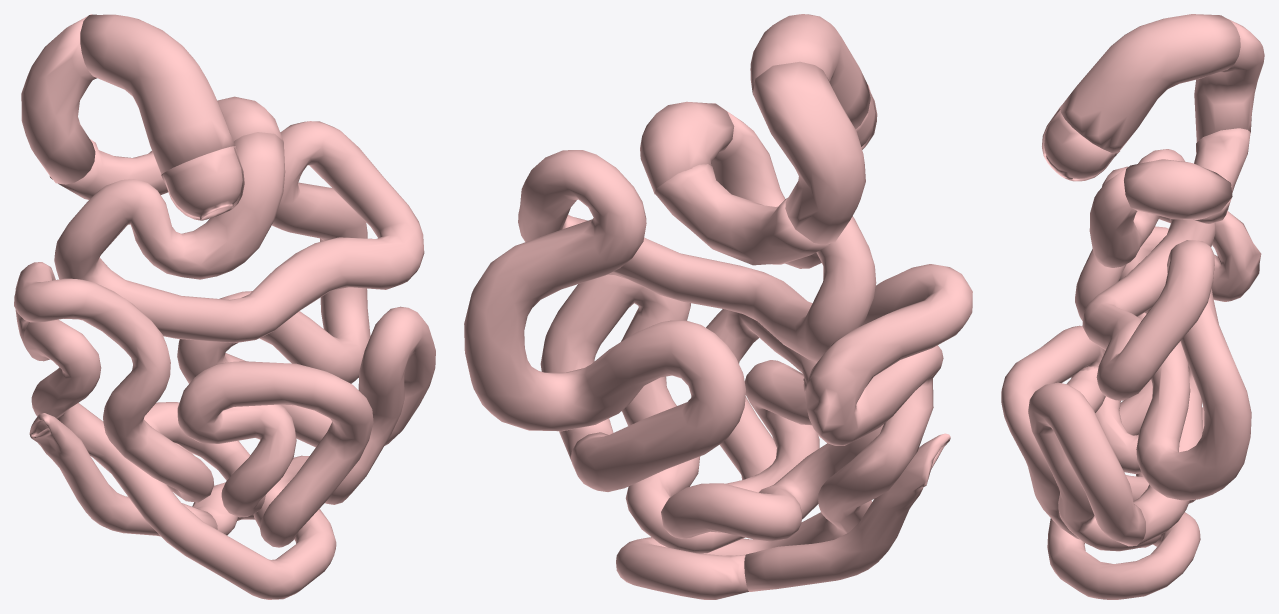
The model's file is vh_f_small_intestine-40.glb.
The picture shows the model from 3 angles, left to right: view 1: azimuth 30°, elevation 25°; view 2: azimuth 150°, elevation 25°; view 3: azimuth 270°, elevation 25°; orthographic projection. The views are drawn at different scales.
Parts seen in each view (by area): view 1: VH_F_ileum, VH_F_jejenum, VH_F_duodenum_superior, VH_F_duodenum_descending, VH_F_ileum_terminal, VH_F_duodenal_ampulla, VH_F_duodenum_horizontal, VH_F_duodenum_ascending; view 2: VH_F_ileum, VH_F_jejenum, VH_F_duodenum_descending, VH_F_ileum_terminal, VH_F_duodenum_horizontal, VH_F_duodenum_superior, VH_F_duodenum_ascending; view 3: VH_F_jejenum, VH_F_ileum, VH_F_duodenum_superior, VH_F_duodenum_ascending, VH_F_duodenum_descending, VH_F_duodenal_ampulla, VH_F_duodenum_horizontal.
Part boxes in pixels (x1=…): VH_F_ileum: x1=14, y1=262, x2=435, y2=599; VH_F_jejenum: x1=54, y1=121, x2=424, y2=447; VH_F_duodenum_superior: x1=80, y1=14, x2=235, y2=174; VH_F_duodenum_descending: x1=21, y1=14, x2=96, y2=184; VH_F_ileum_terminal: x1=29, y1=413, x2=217, y2=536; VH_F_duodenal_ampulla: x1=161, y1=146, x2=244, y2=220; VH_F_duodenum_horizontal: x1=49, y1=139, x2=168, y2=199; VH_F_duodenum_ascending: x1=217, y1=96, x2=283, y2=141; VH_F_ileum: x1=540, y1=264, x2=972, y2=599; VH_F_jejenum: x1=464, y1=103, x2=876, y2=491; VH_F_duodenum_descending: x1=752, y1=61, x2=865, y2=245; VH_F_ileum_terminal: x1=744, y1=433, x2=950, y2=591; VH_F_duodenum_horizontal: x1=654, y1=164, x2=830, y2=265; VH_F_duodenum_superior: x1=750, y1=14, x2=870, y2=129; VH_F_duodenum_ascending: x1=640, y1=101, x2=734, y2=194; VH_F_jejenum: x1=1082, y1=149, x2=1251, y2=545; VH_F_ileum: x1=1001, y1=166, x2=1261, y2=599; VH_F_duodenum_superior: x1=1060, y1=14, x2=1240, y2=153; VH_F_duodenum_ascending: x1=1124, y1=159, x2=1232, y2=219; VH_F_duodenum_descending: x1=1194, y1=15, x2=1264, y2=142; VH_F_duodenal_ampulla: x1=1042, y1=105, x2=1119, y2=181; VH_F_duodenum_horizontal: x1=1193, y1=128, x2=1250, y2=223.
Size of the model in its own units: 0.1615 by 0.2172 by 0.1001.
